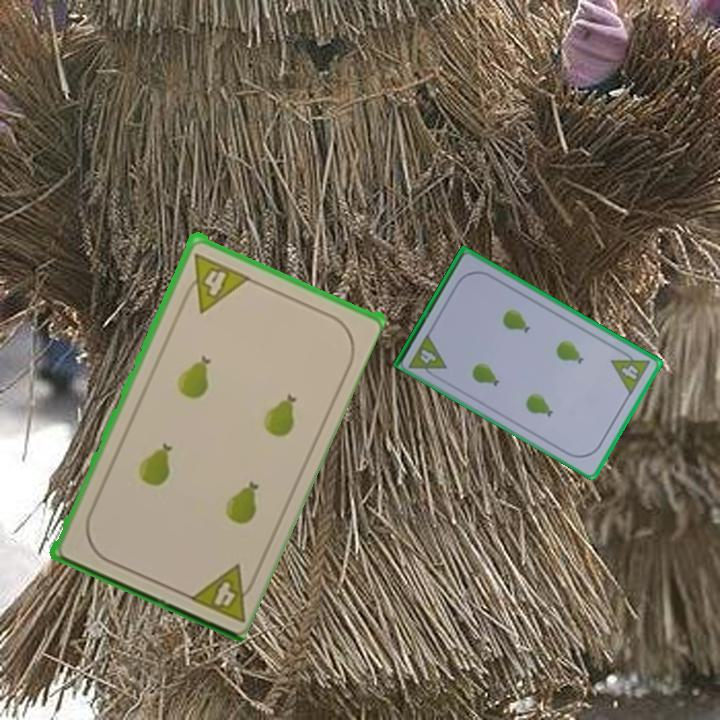4p: (183, 559, 262, 625), (177, 249, 251, 315), (608, 344, 653, 398), (406, 329, 449, 382)
